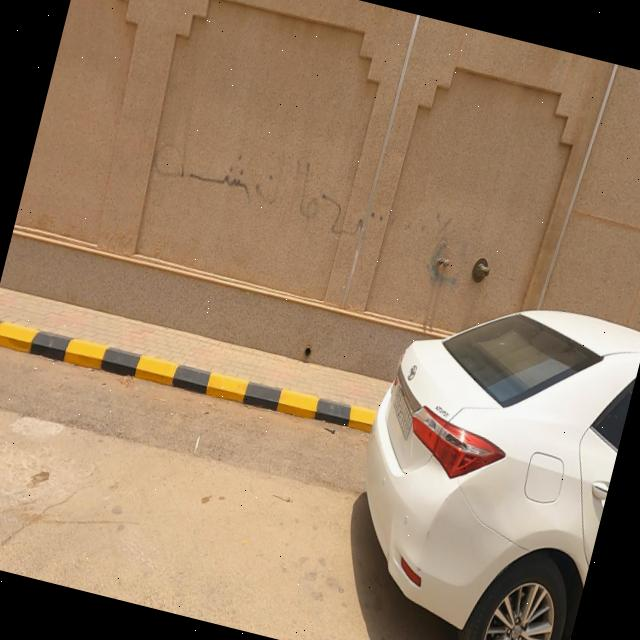Graffiti: (142, 123, 483, 291)
